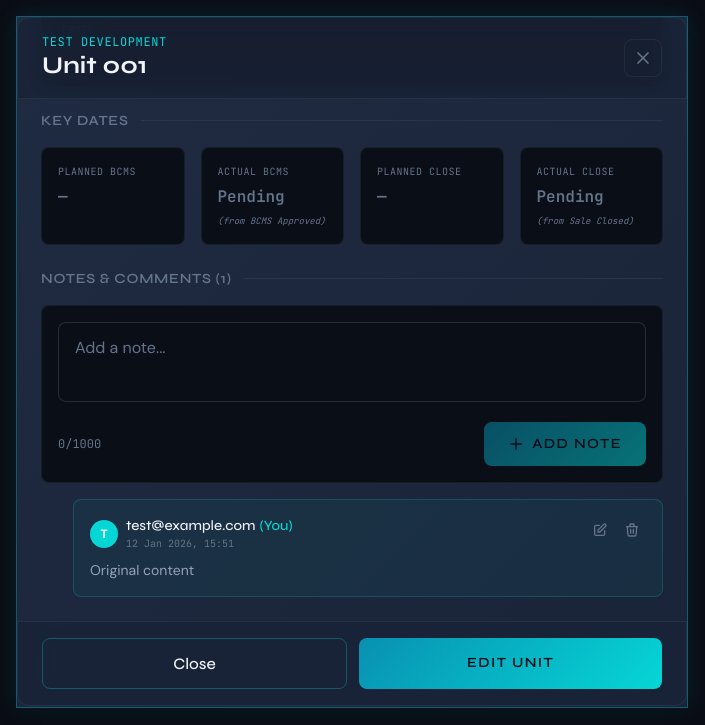
UnitDetailModal › edit note functionality › enters edit mode when edit button is clicked
(page scrolled)
Click the button titled "Edit" at coordinates (600, 530), box [586, 516, 614, 544]
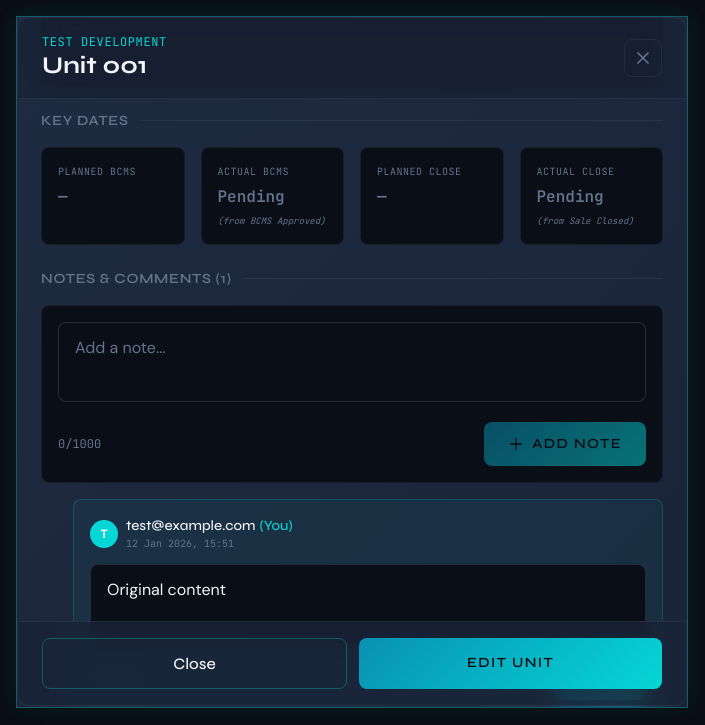
Expected: the text box showing "Original content" is shown, [90, 564, 646, 641]
